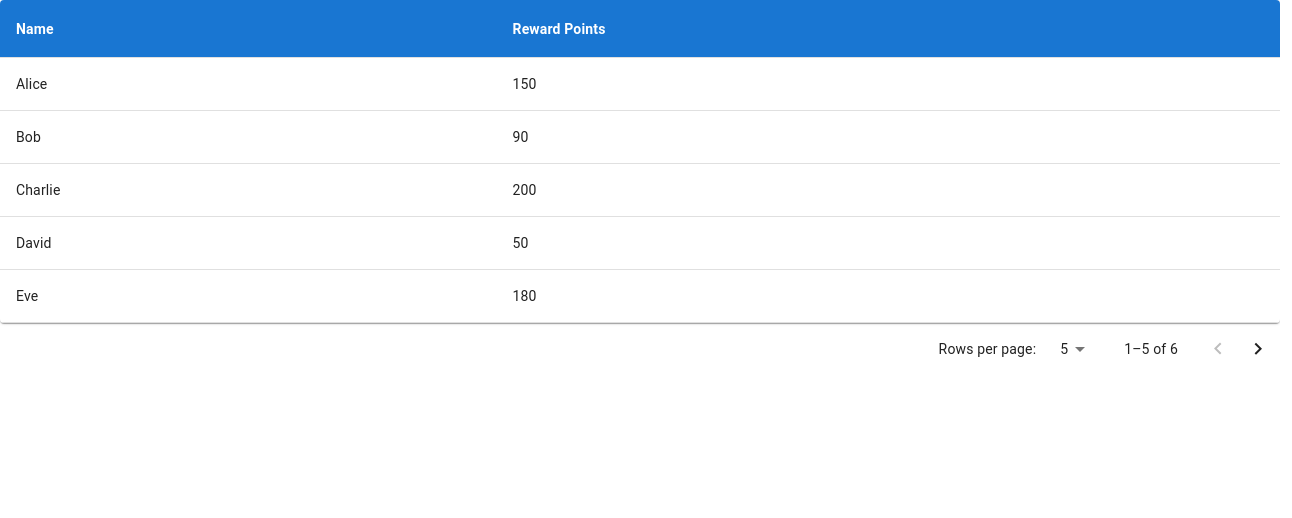
Scenario: DynamicTable (paginated table) › changes rows per page to 10 and displays all rows
Click the dropdown named "rows per page": x=1064, y=349 [1060, 341, 1068, 357]
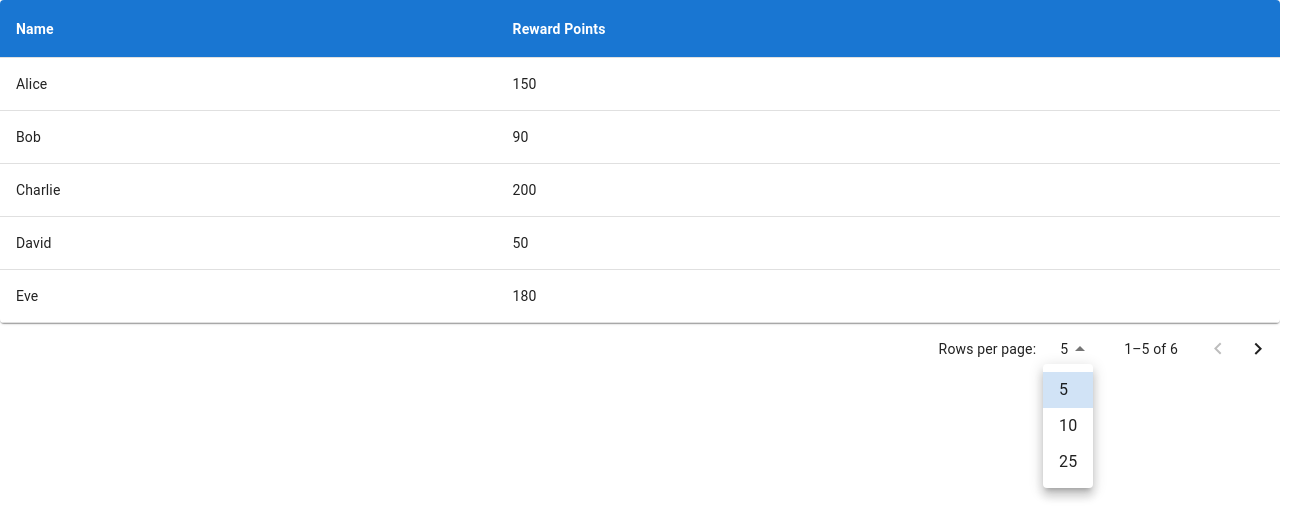
Click the option "10": x=1068, y=426 [1059, 416, 1077, 435]
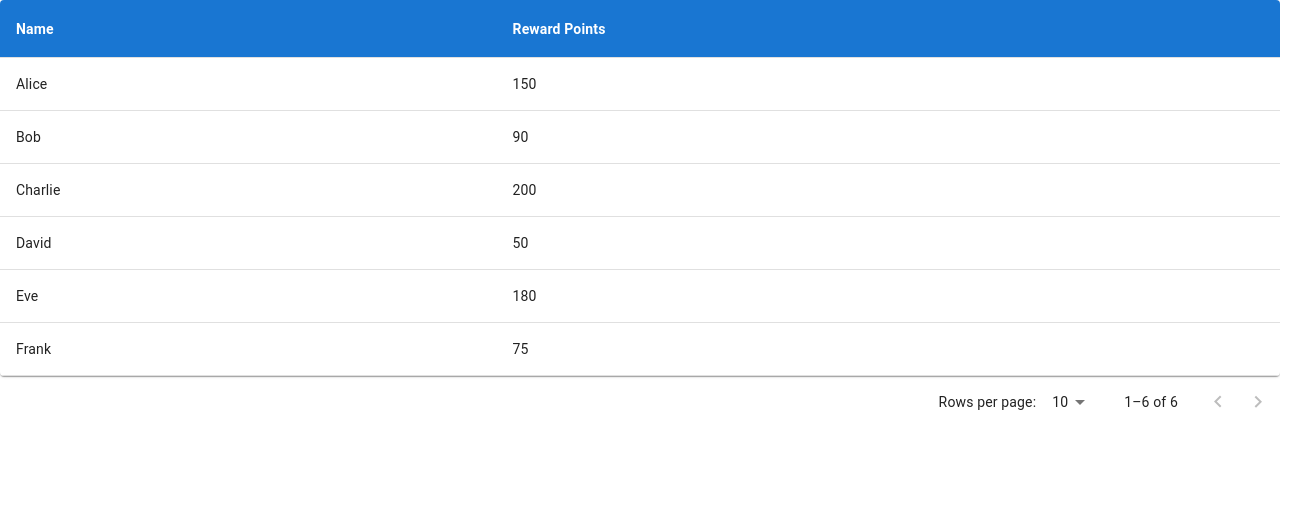
Expected: the number of rows is 7
